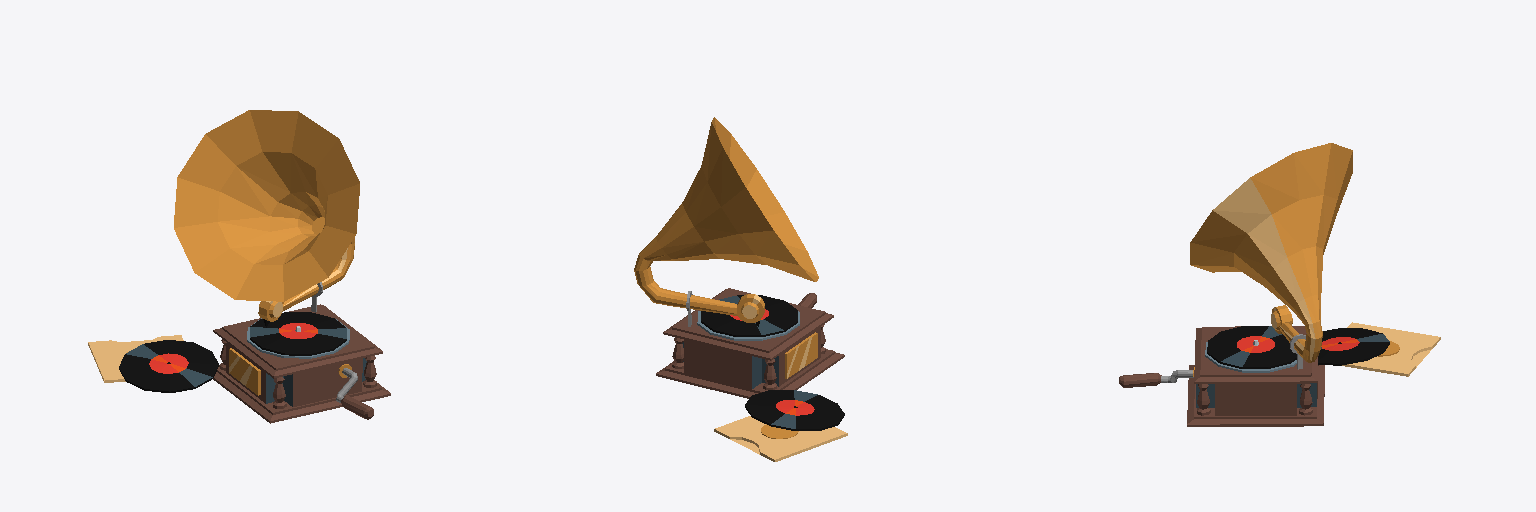
The picture shows the model from 3 angles: view 1: azimuth 30°, elevation 25°; view 2: azimuth 150°, elevation 25°; view 3: azimuth 270°, elevation 25°; orthographic projection.
Parts seen in each view (by area): view 1: mesh[number redacted]; view 2: mesh[number redacted]; view 3: mesh[number redacted].
Boxes of the visible parts, x1=… form: mesh[number redacted]: x1=88, y1=110, x2=390, y2=423; mesh[number redacted]: x1=634, y1=117, x2=847, y2=461; mesh[number redacted]: x1=1119, y1=143, x2=1440, y2=426.
Bounding box in the file's own units: 0.9027 × 0.9511 × 1.09.